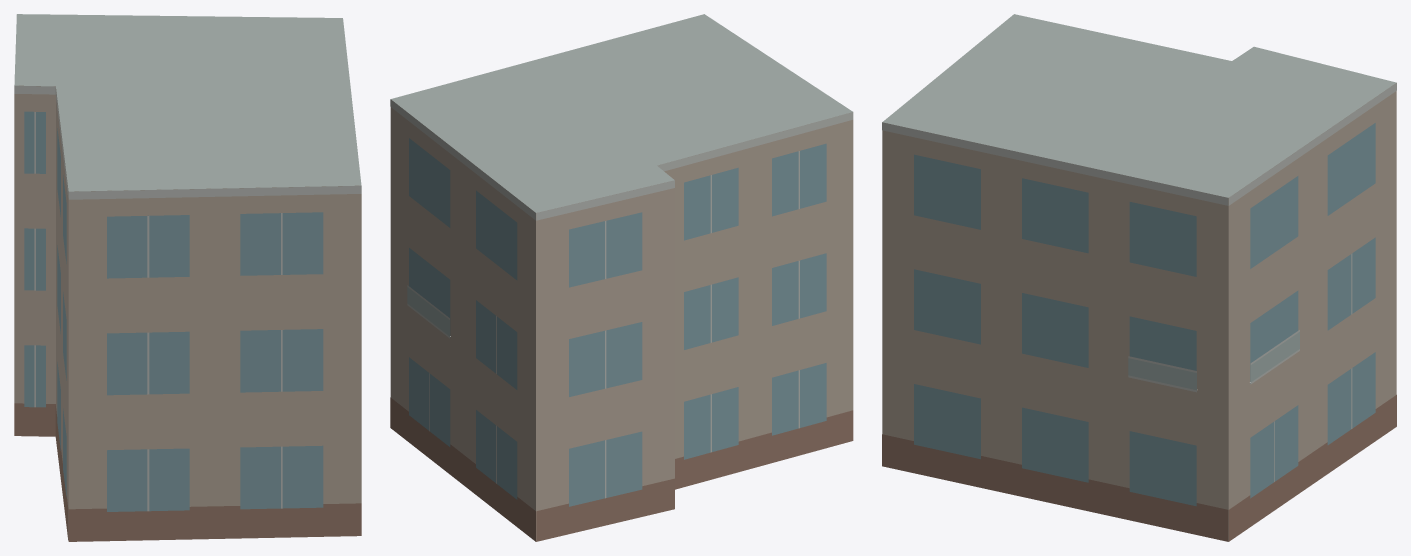
Rendered from survey-upis-32670823.glb.
The picture shows the model from 3 angles, left to right: view 1: azimuth 30°, elevation 25°; view 2: azimuth 150°, elevation 25°; view 3: azimuth 270°, elevation 25°; orthographic projection. The views are drawn at different scales.
Parts seen in each view (by area): view 1: survey-upis-32670823.tmp; view 2: survey-upis-32670823.tmp; view 3: survey-upis-32670823.tmp.
Part boxes in pixels (x1,y1,x2,y2): survey-upis-32670823.tmp: (14, 14, 361, 541); survey-upis-32670823.tmp: (390, 14, 853, 541); survey-upis-32670823.tmp: (882, 14, 1396, 541).
Bounding box in the file's own units: 11.93 × 10.4 × 14.11.
